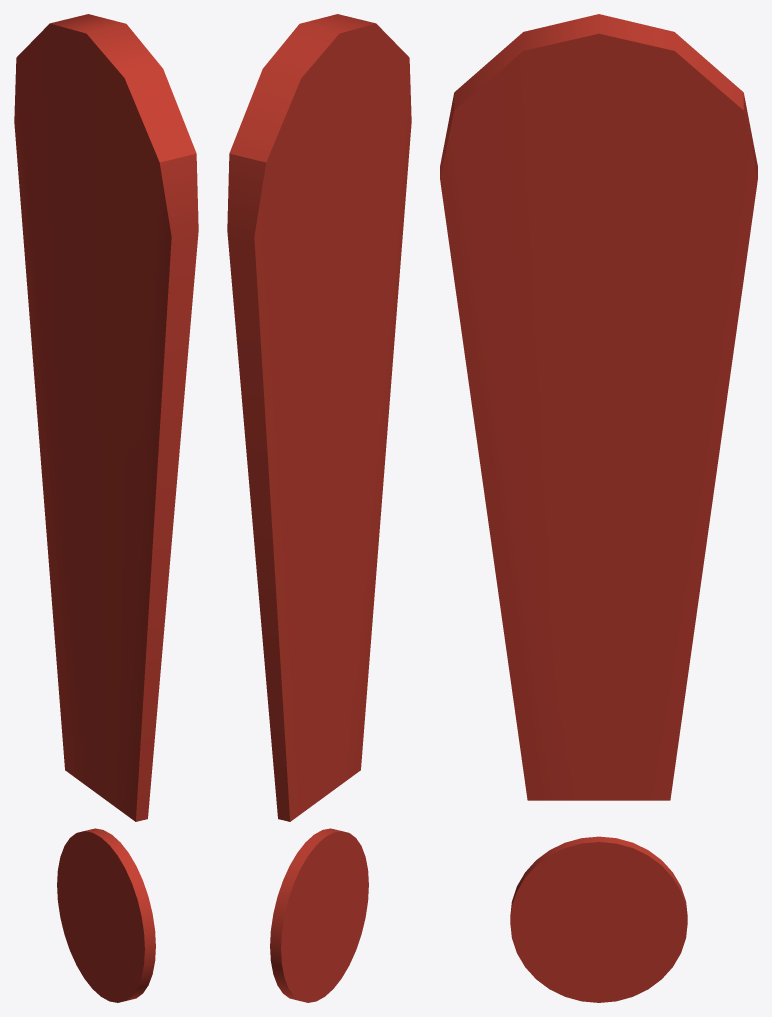
File: Anim_Enemigo_Exclamacion_V2.fbx
3 renders of one model, left to right at view 1: azimuth 30°, elevation 25°; view 2: azimuth 150°, elevation 25°; view 3: azimuth 270°, elevation 25°, orthographic.
Parts seen in each view (by area): view 1: Exclamacion; view 2: Exclamacion; view 3: Exclamacion.
Part boxes in pixels (left/top/right/bottom): Exclamacion: left=14, top=14, right=198, bottom=1002; Exclamacion: left=227, top=14, right=411, bottom=1002; Exclamacion: left=440, top=14, right=757, bottom=1002.
Size of the model in its own units: 1.6 by 36.98 by 10.91.
